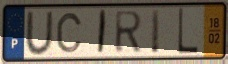C: (55, 12, 84, 55)
I: (96, 8, 109, 57), (150, 8, 162, 56)
L: (176, 6, 200, 56)
R: (114, 10, 144, 56)
U: (24, 9, 55, 57)
